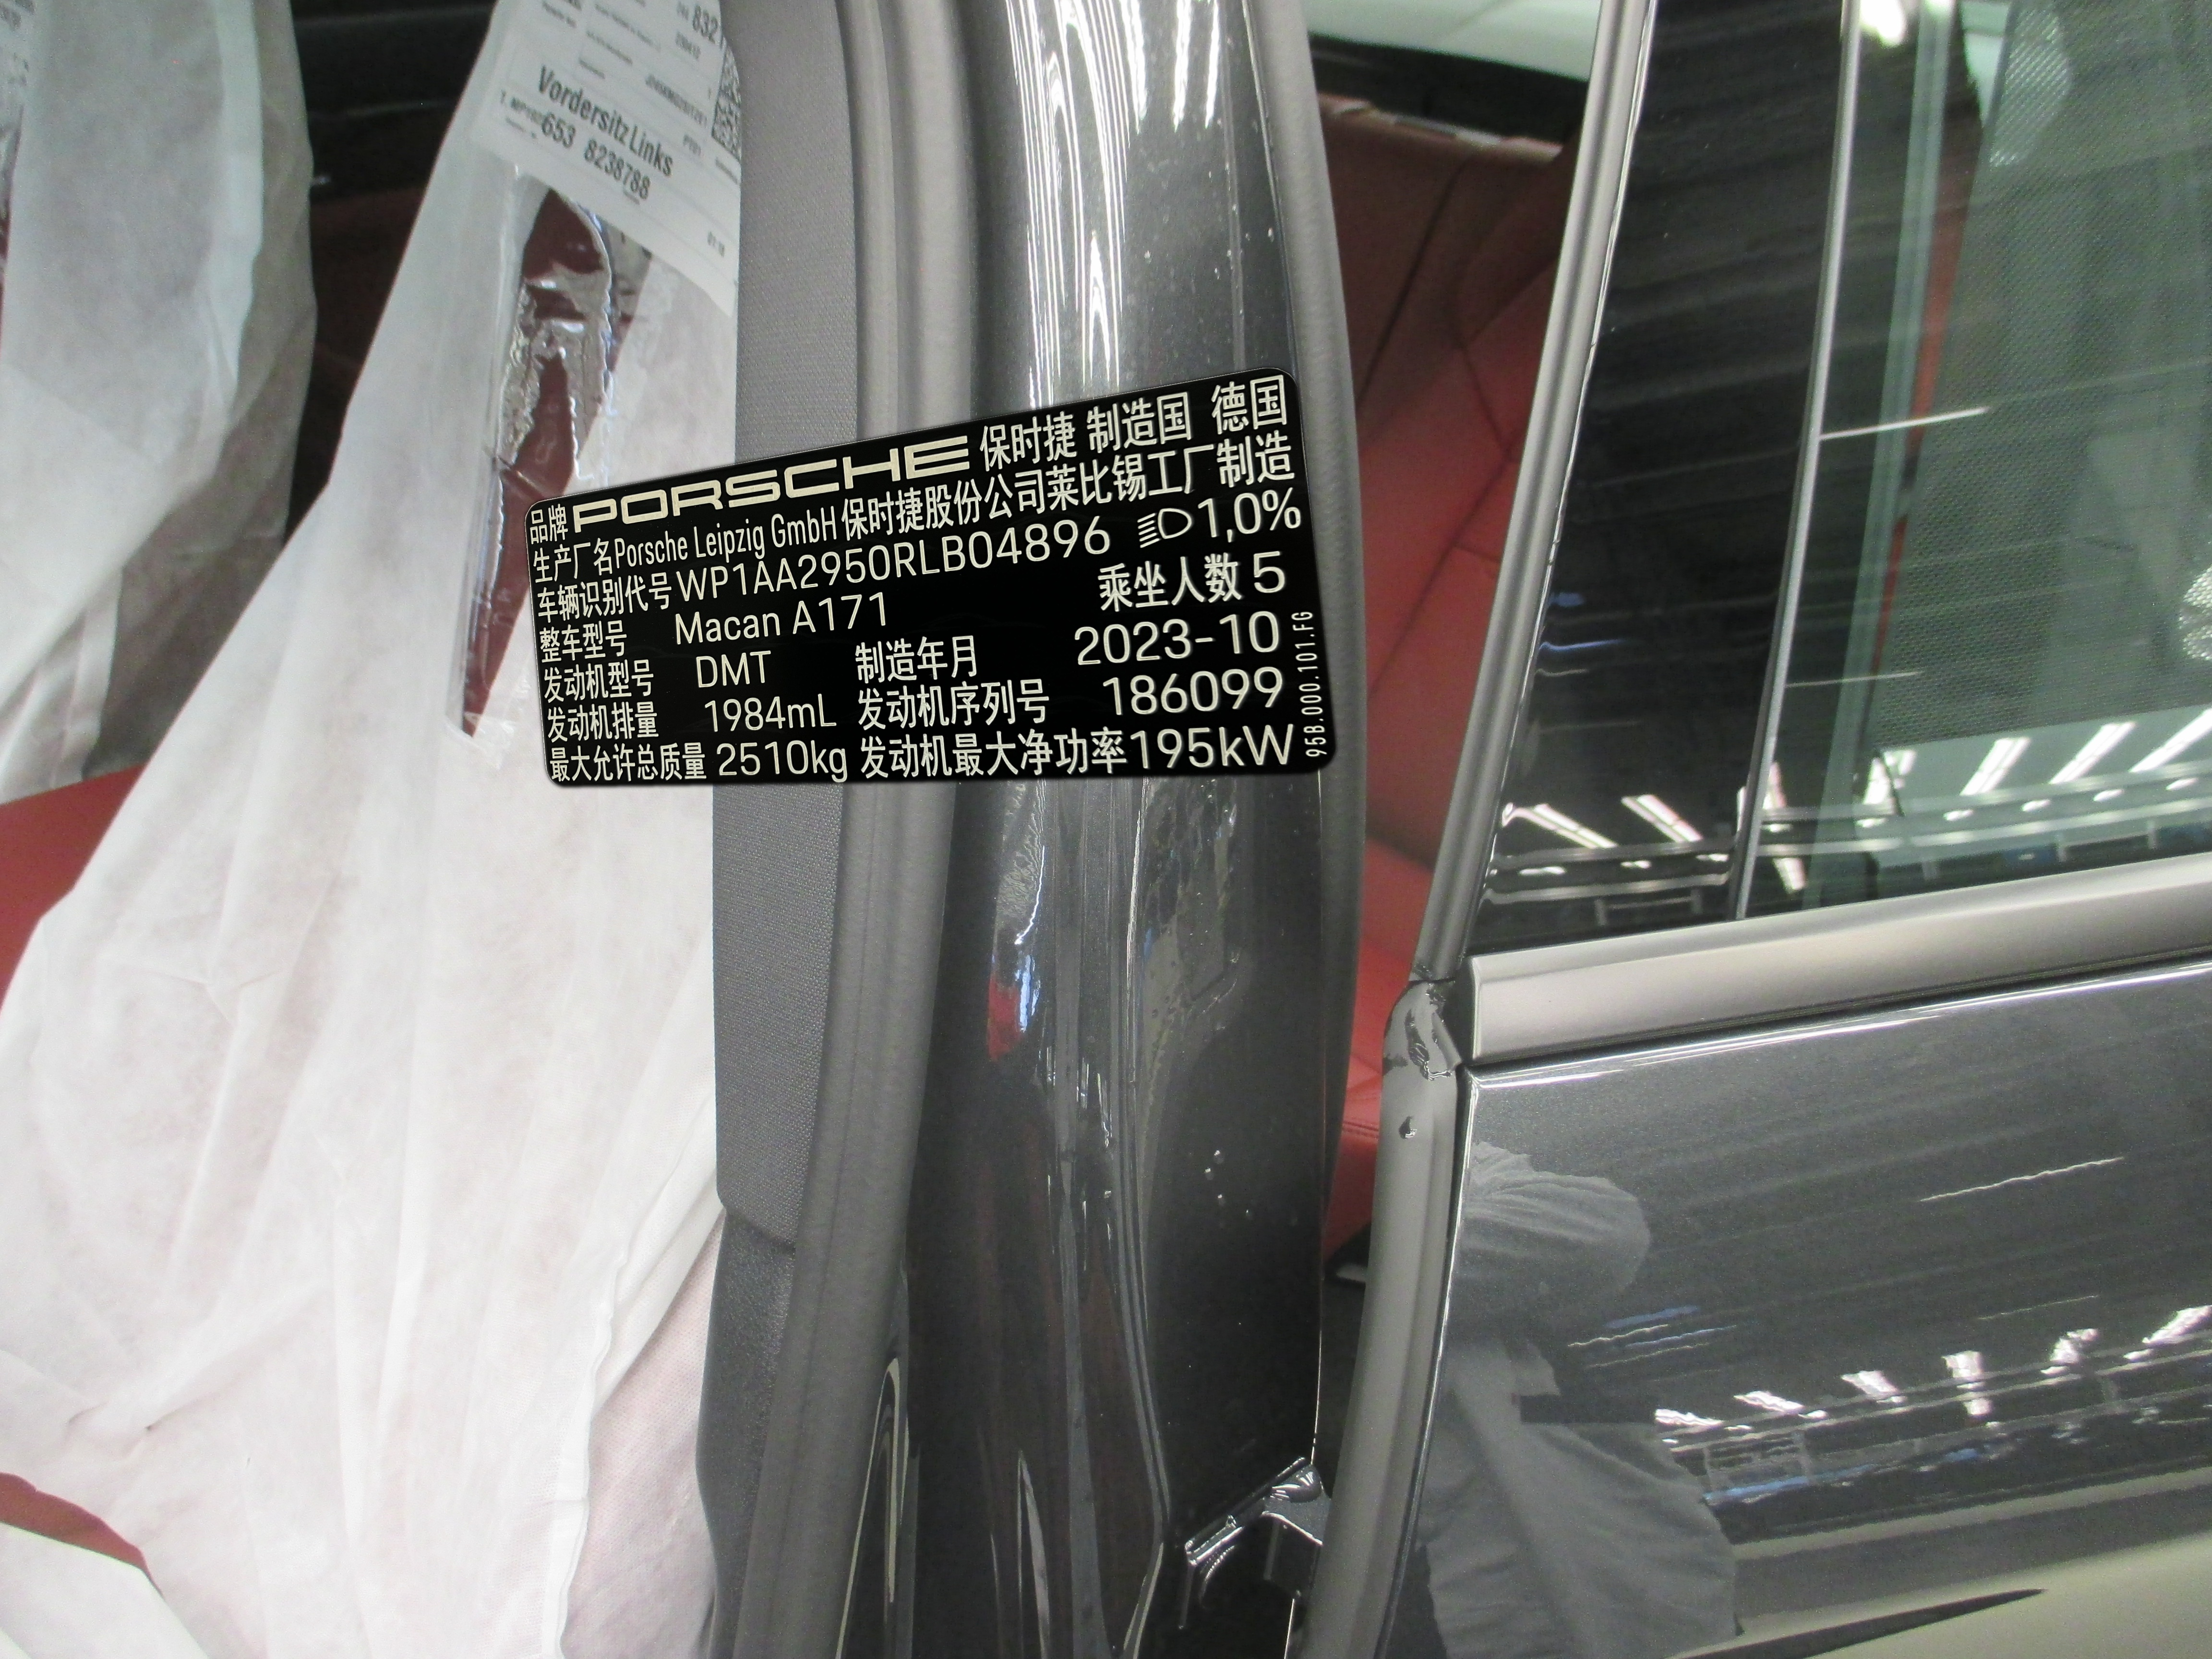Typlabel-China: (524, 368, 1336, 786)
